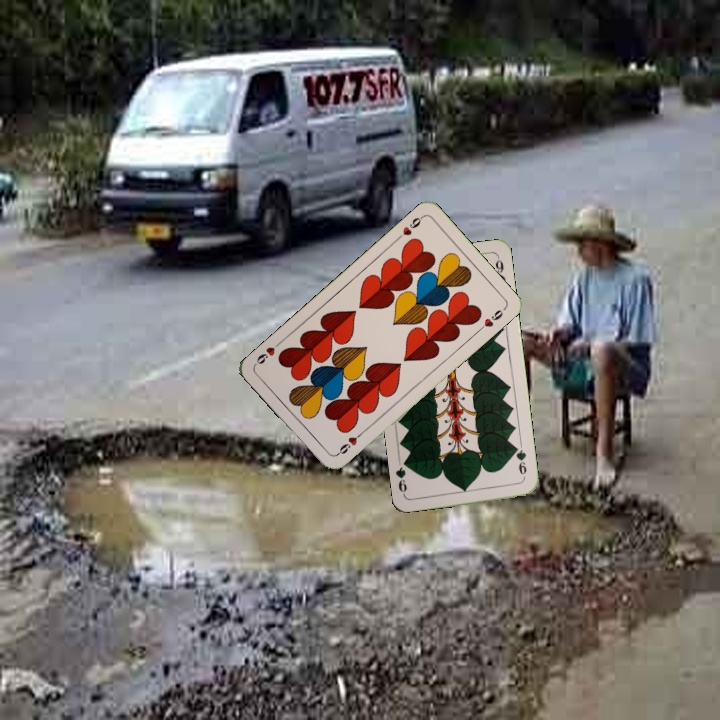G9: (511, 442, 529, 482)
H9: (332, 428, 366, 458), (393, 212, 426, 242)
